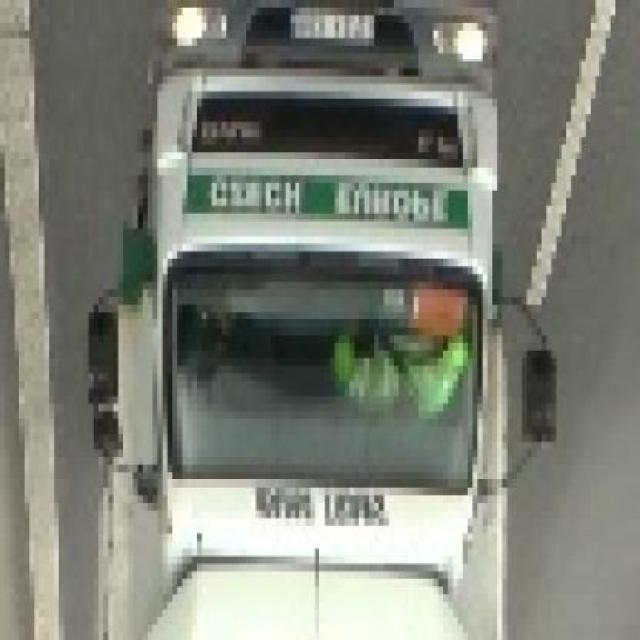truck: (94, 16, 557, 640)
